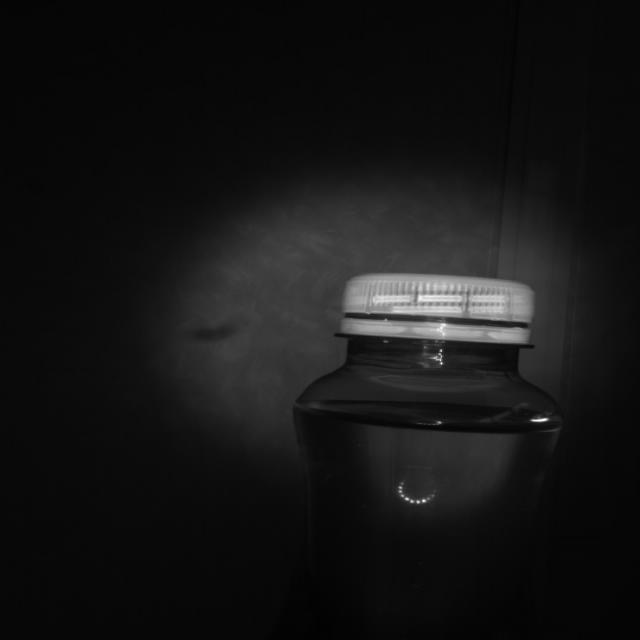Not Good: (339, 272, 532, 349)
